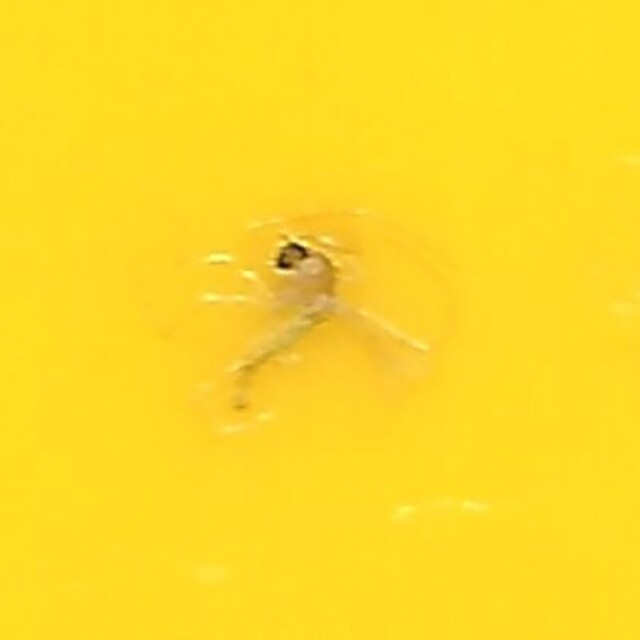Nematocera: (218, 218, 422, 422)
